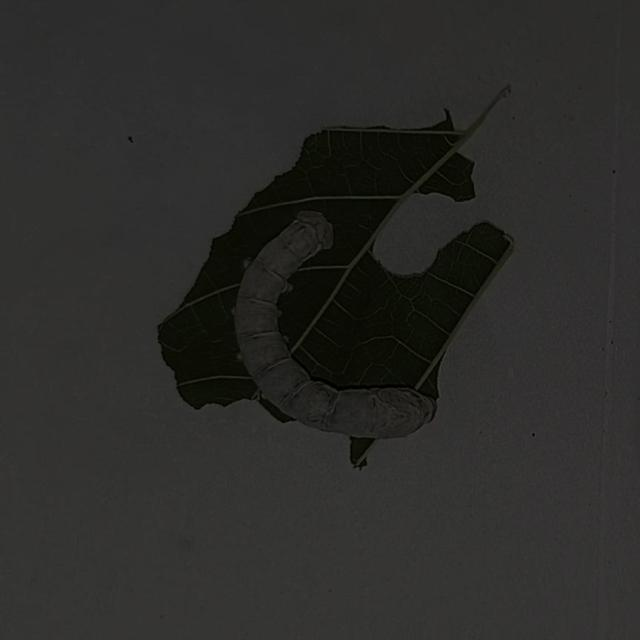Healthy: (228, 202, 444, 468)
